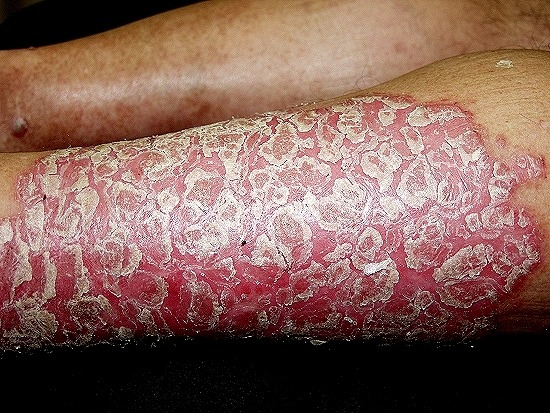Psoriasis: (0, 88, 550, 356)
